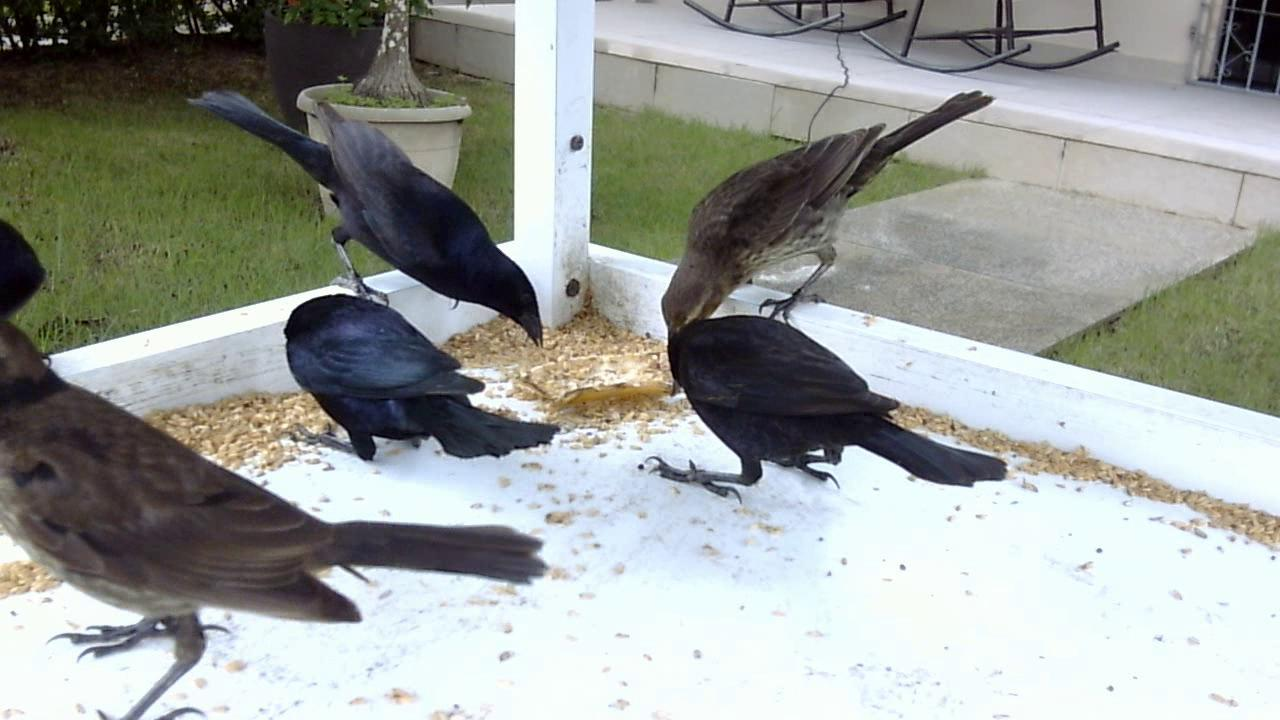chupim: (1, 263, 558, 718), (651, 83, 1008, 356), (190, 78, 546, 338), (633, 278, 1012, 507), (263, 278, 561, 466)
